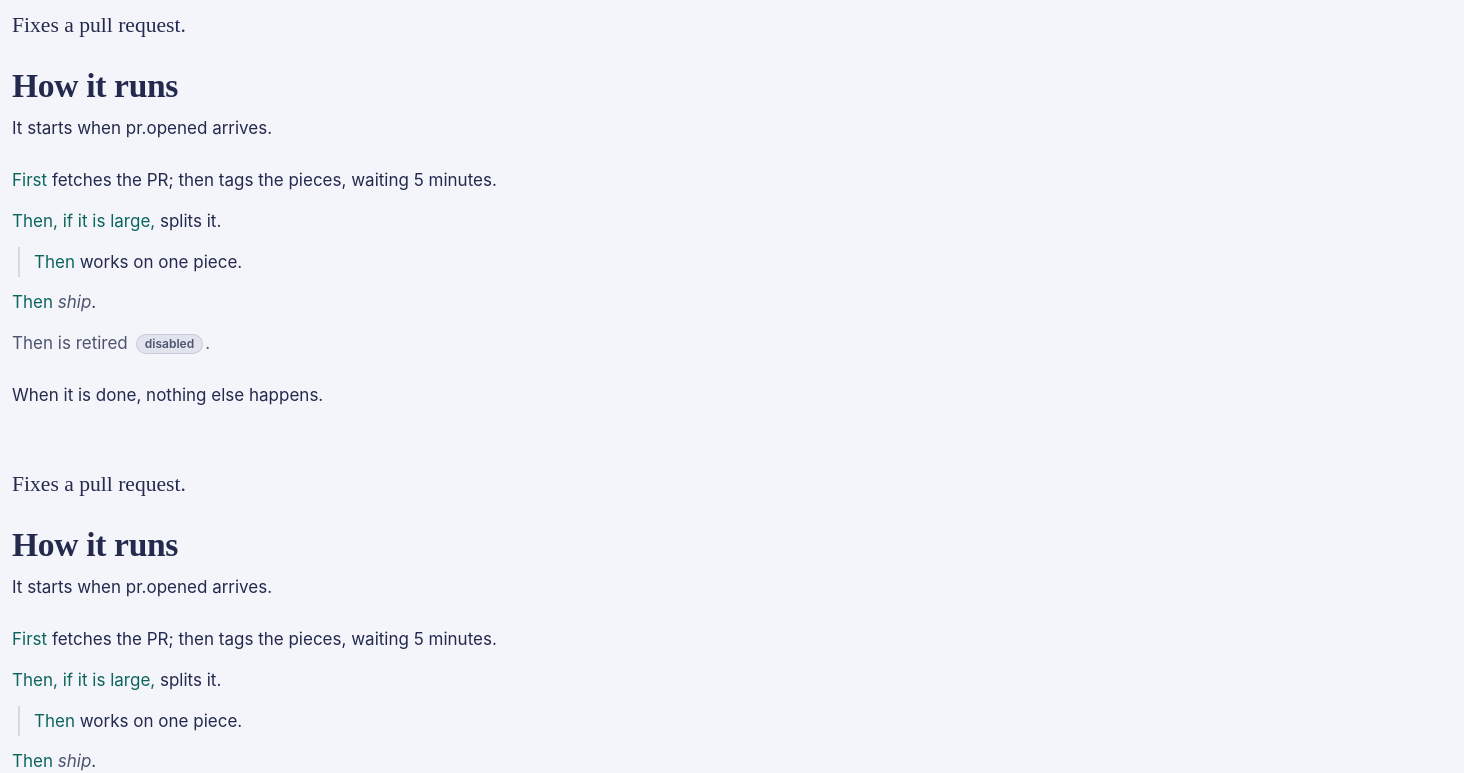
Simple view: saves send the revision read (t16) › two tabs on revision 3: the first saves (sending 3), the second gets the conflict and keeps its typed text until Reload
Expected: the 1st element with test id "paragraph" is shown, [12, 113, 1452, 411]
Click the 1st button "Fixes a pull request.". click: [99, 25]
box: [12, 13, 186, 37]
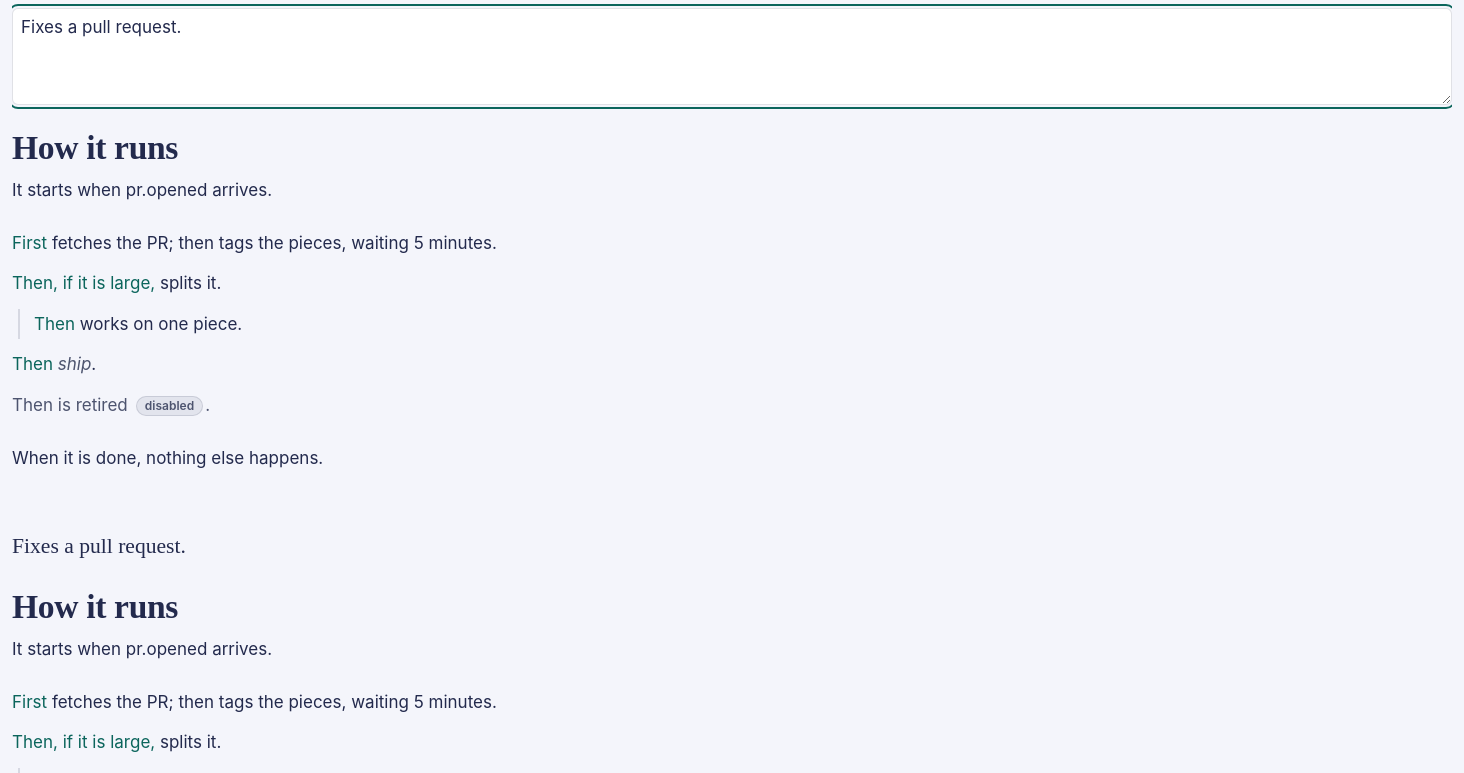
Replace the text in the text box named "description of this workflow" with "Tab one wrote this.". click: [732, 56]
box: [12, 8, 1452, 105]
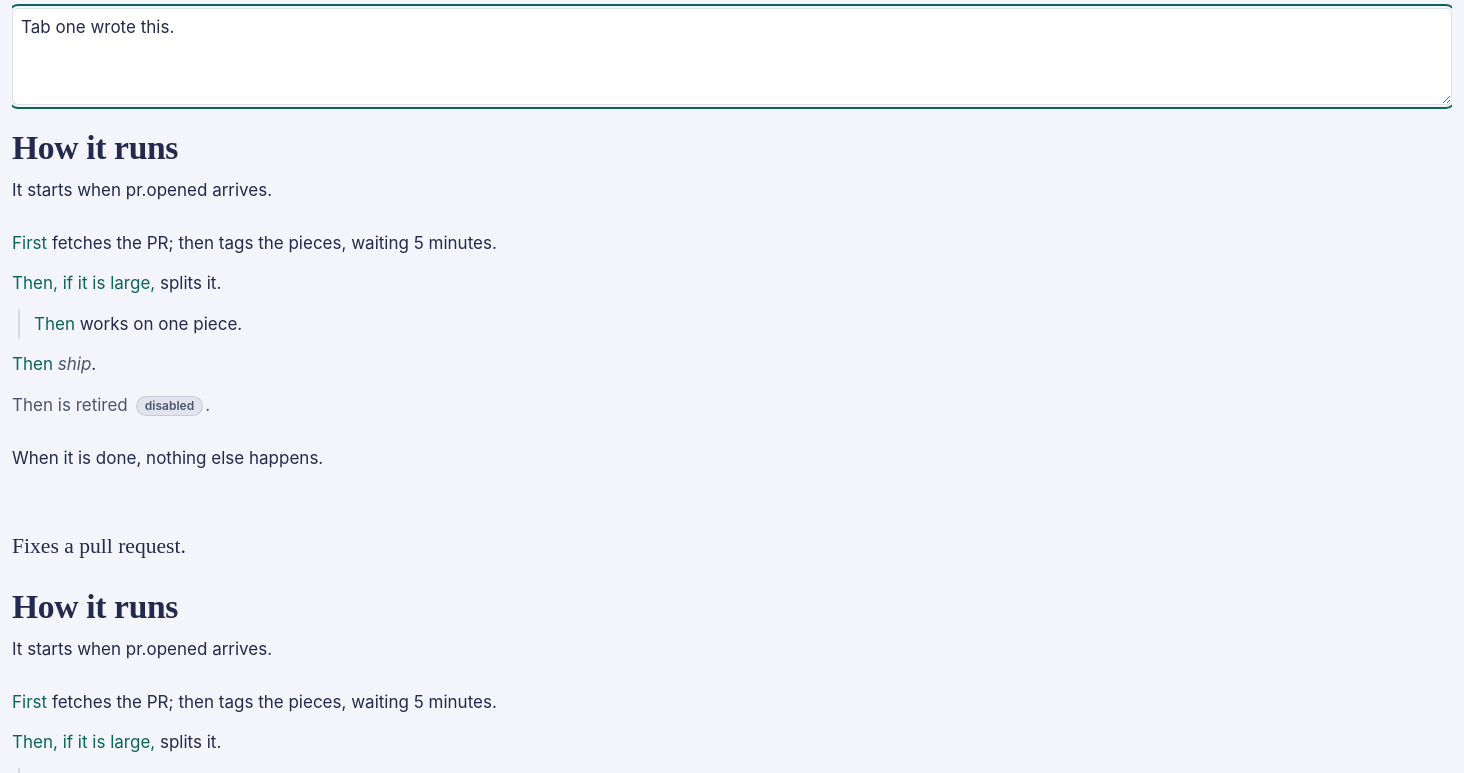
Click the button "Fixes a pull request.". click: [99, 546]
box: [12, 534, 186, 558]
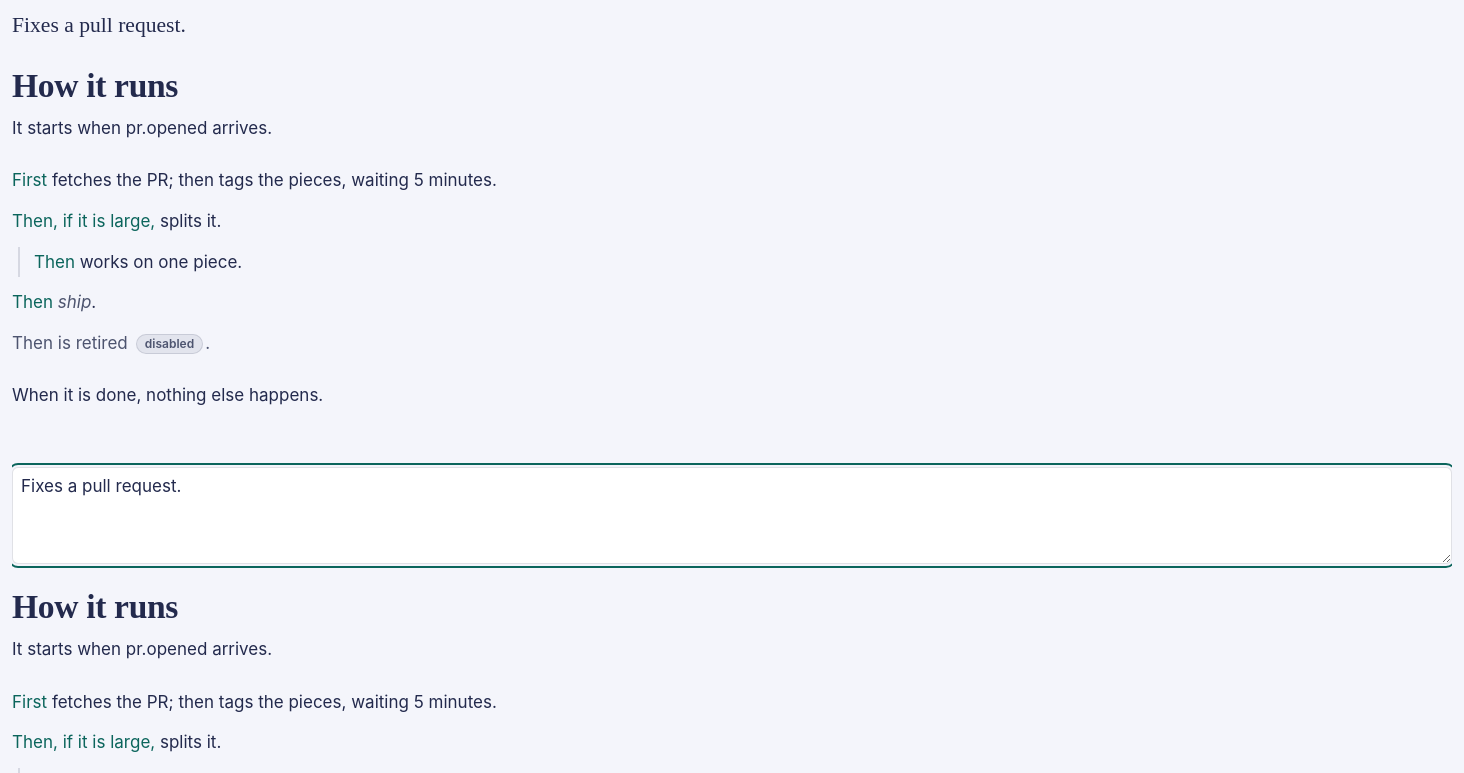
Replace the text in the text box named "description of this workflow" with "Tab two wrote this.". click: [732, 515]
box: [12, 467, 1452, 564]
Press Tab
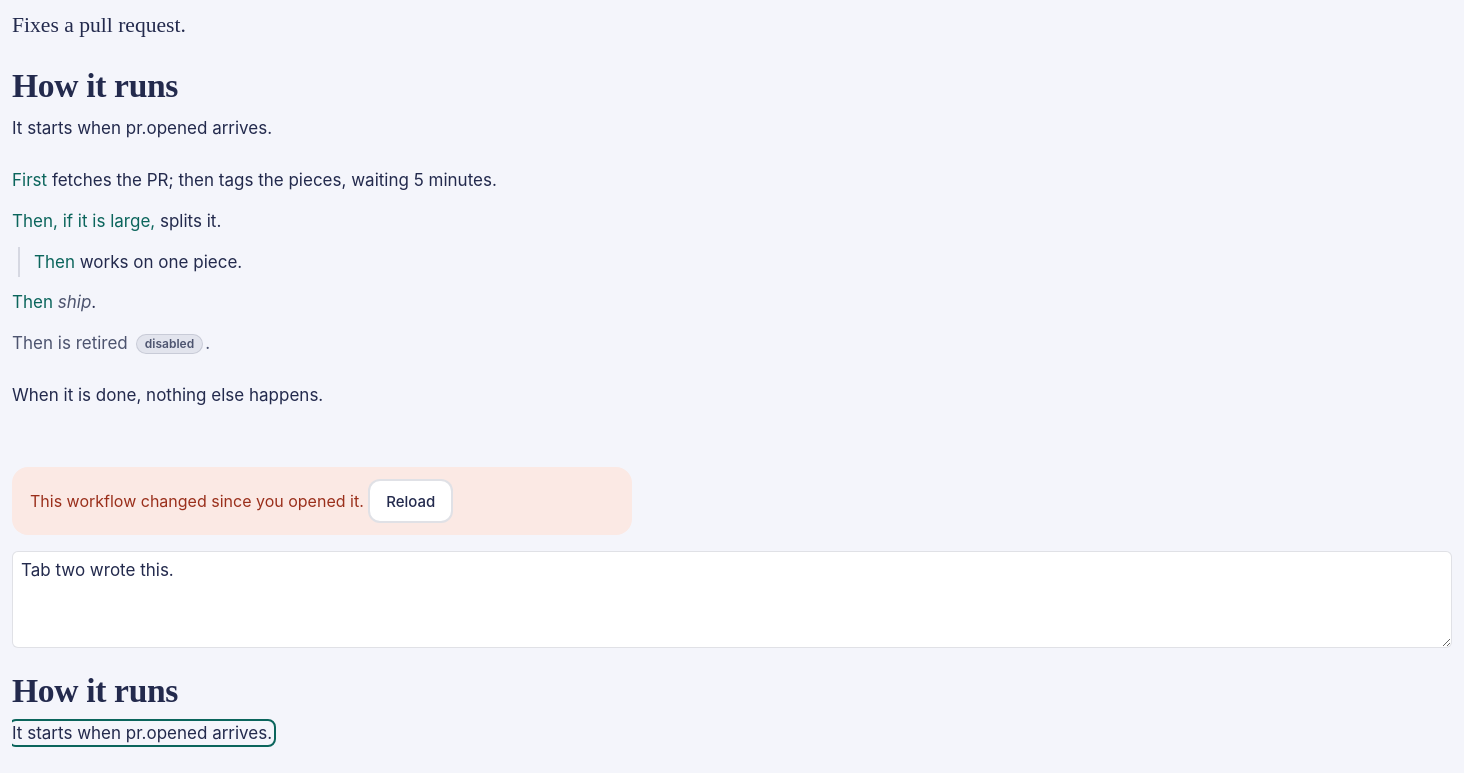
Press Tab
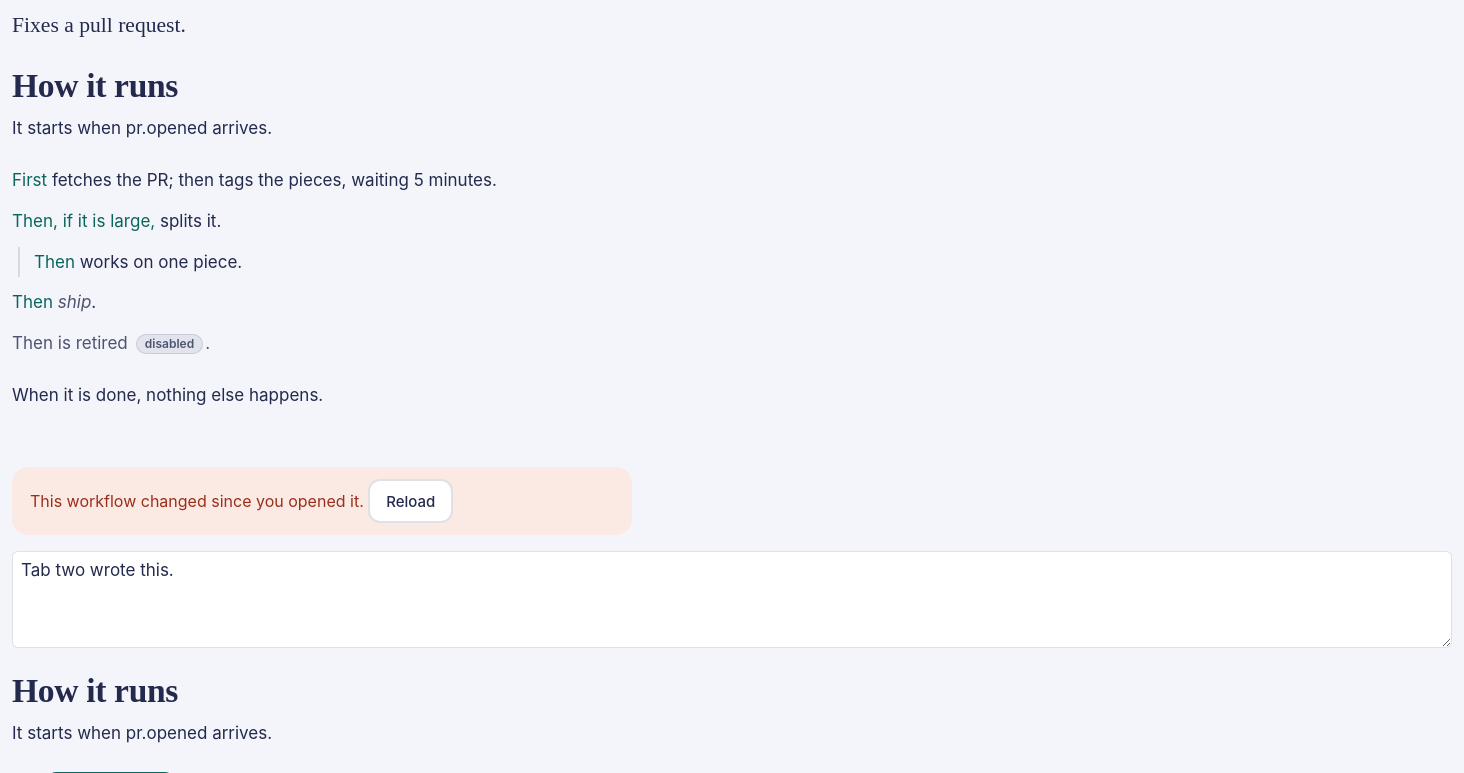
Expected: the text "This workflow changed since you opened it." is shown, [12, 467, 632, 535]
Click the button "Reload". click: [411, 501]
box: [368, 479, 453, 523]
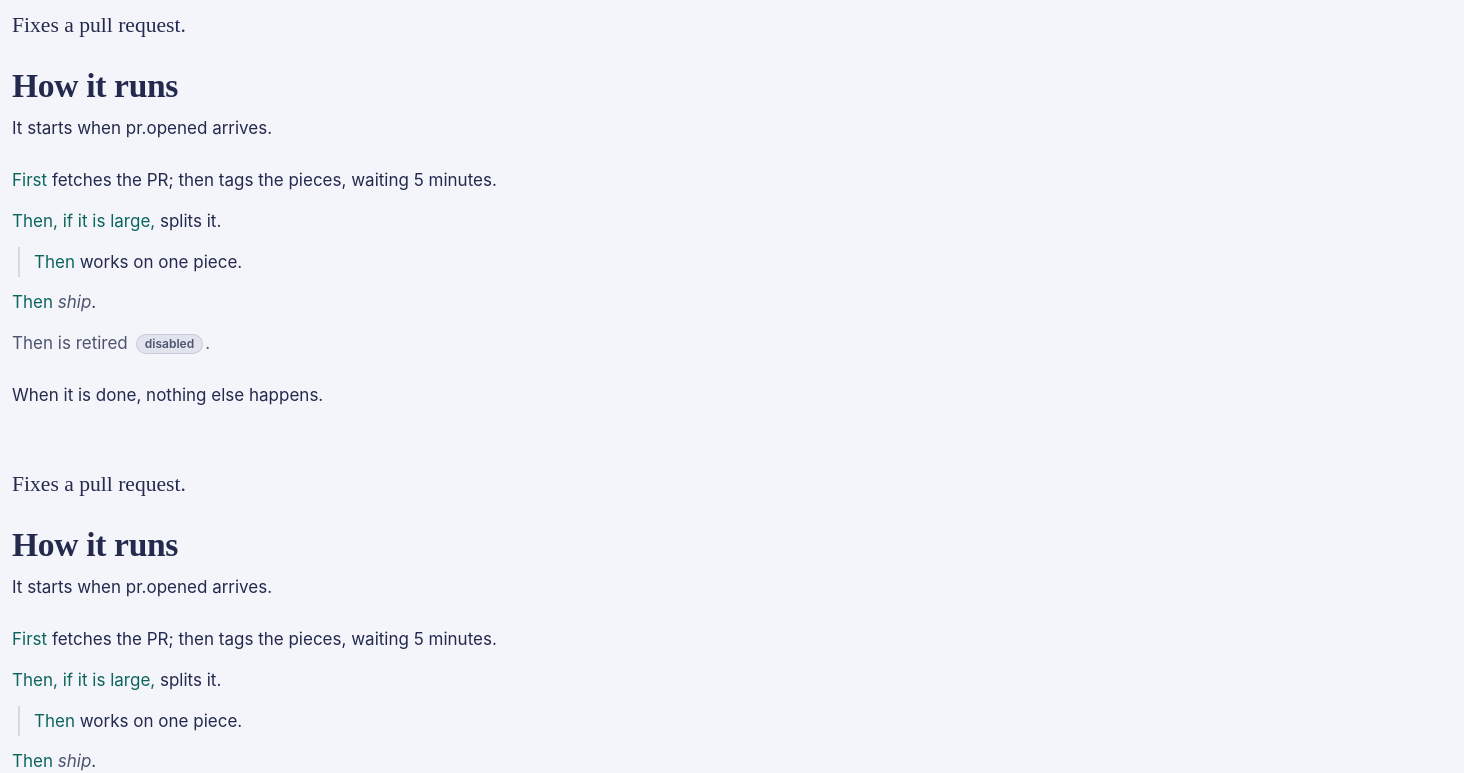
Expected: the text "This workflow changed since you opened it." is gone
